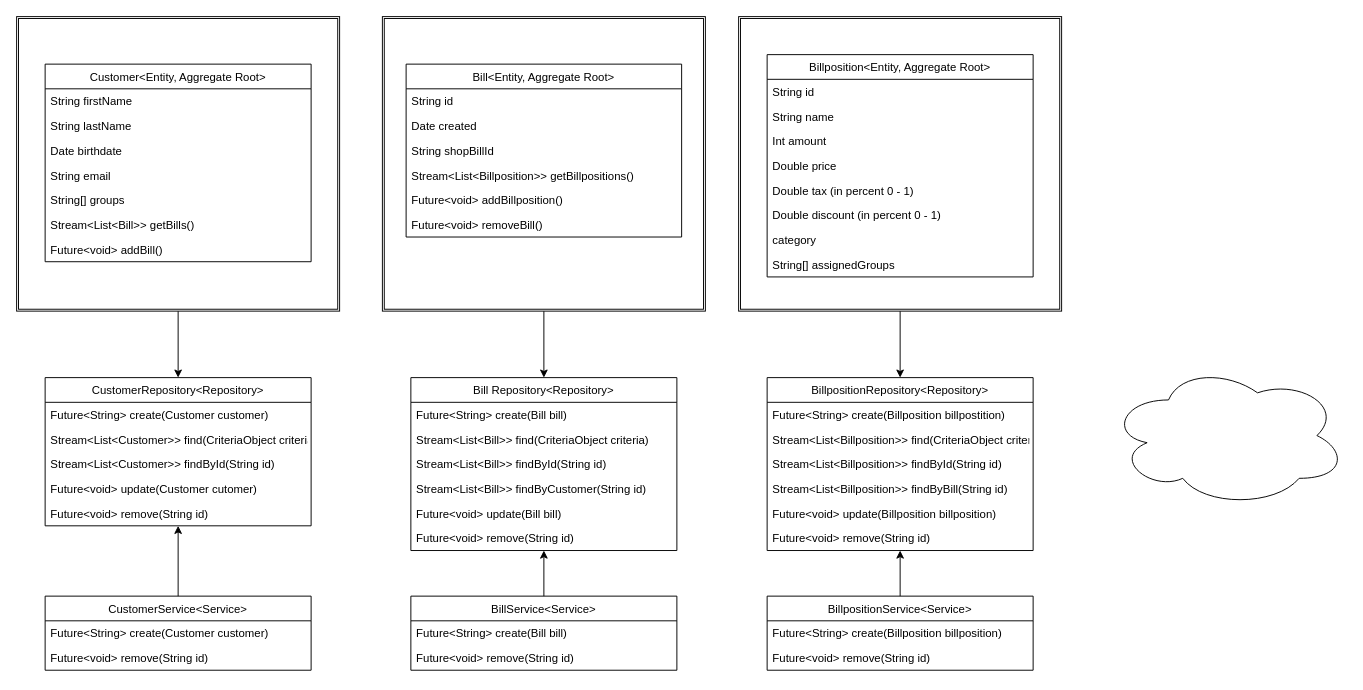
Some shapes in this 1363 by 690 pixel diagram are drawn without their labels. The shapes that lost their labels are listed below. From the top down, each one's box as (x1, y1, x2, y2) in pixels, then its label:
(16, 16, 340, 311): Customer Aggregate
(381, 16, 705, 311): Bill Aggregate
(738, 16, 1062, 311): Billposition Aggregate
(1108, 363, 1347, 507): FirebaseFirestore
